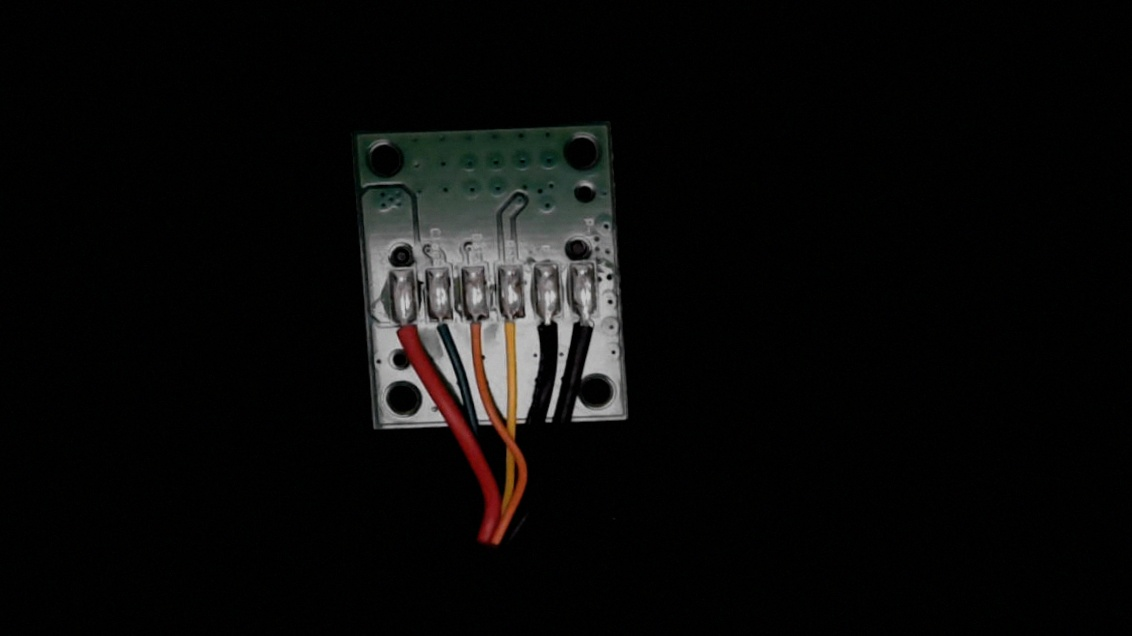Black: (531, 299, 565, 366)
Black1: (571, 296, 603, 357)
Green: (426, 301, 455, 355)
Orange: (462, 304, 492, 367)
Red: (389, 304, 422, 369)
Yellow: (497, 301, 531, 369)
